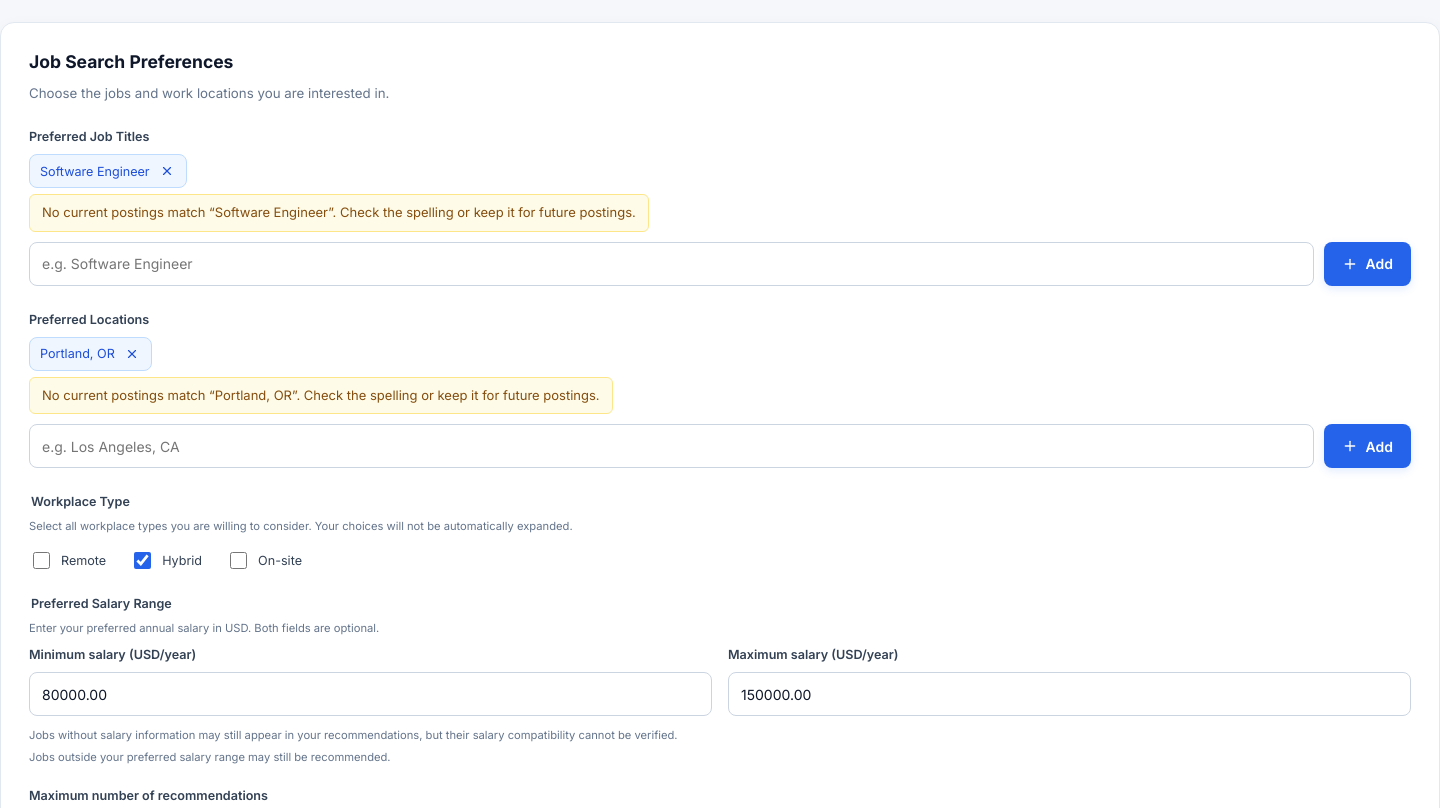
Scenario: SearchPreferencesForm (JH-021) › does not save unfinished text entries
Expected: the text "Software Engineer" is shown, top-left (29, 154), bottom-right (187, 188)
Type "Austin, TX" into the field labelled "Preferred Locations" at (671, 446), box top-left (29, 424), bottom-right (1314, 468)
(page scrolled)
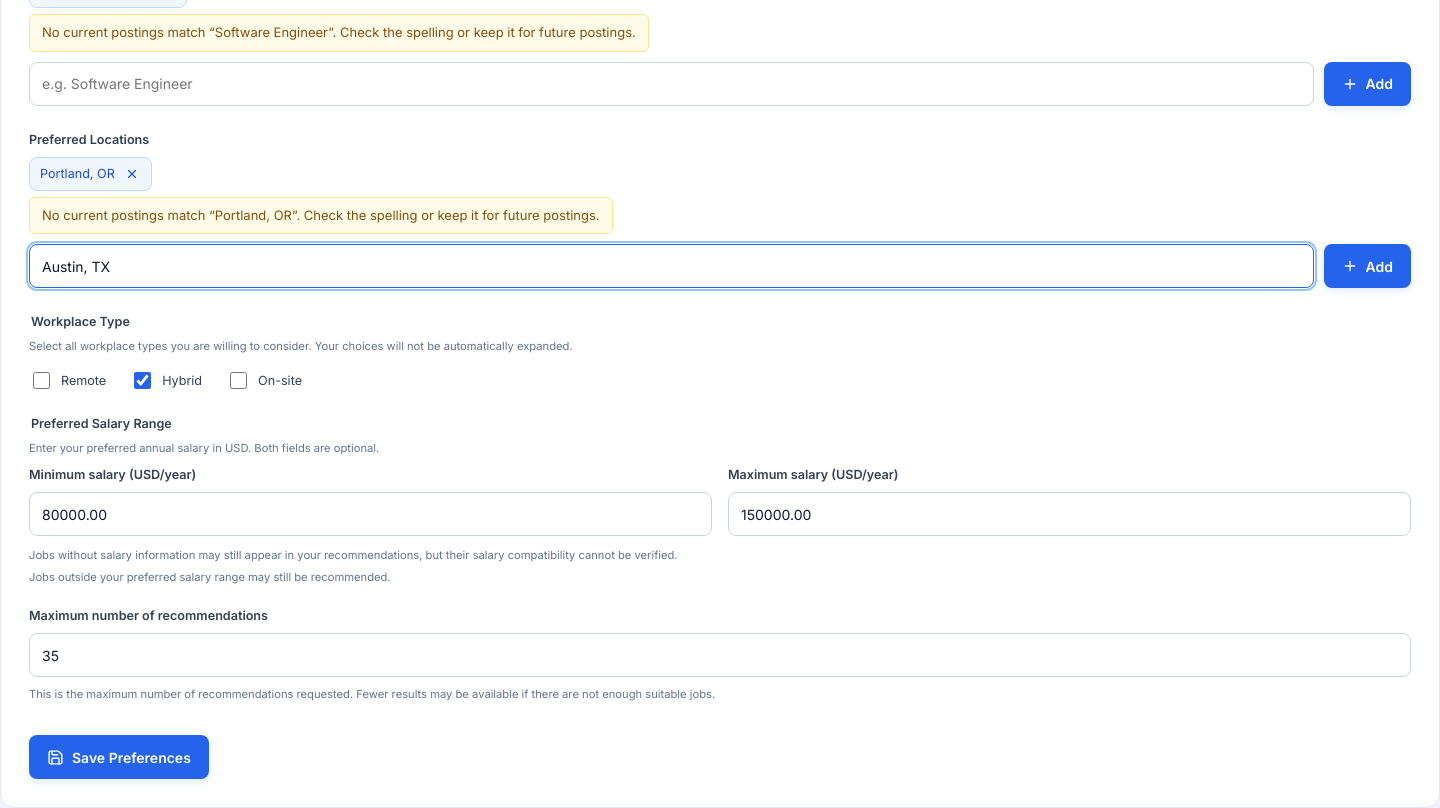
Click the button "Save Preferences" at (119, 757), box top-left (29, 735), bottom-right (209, 779)
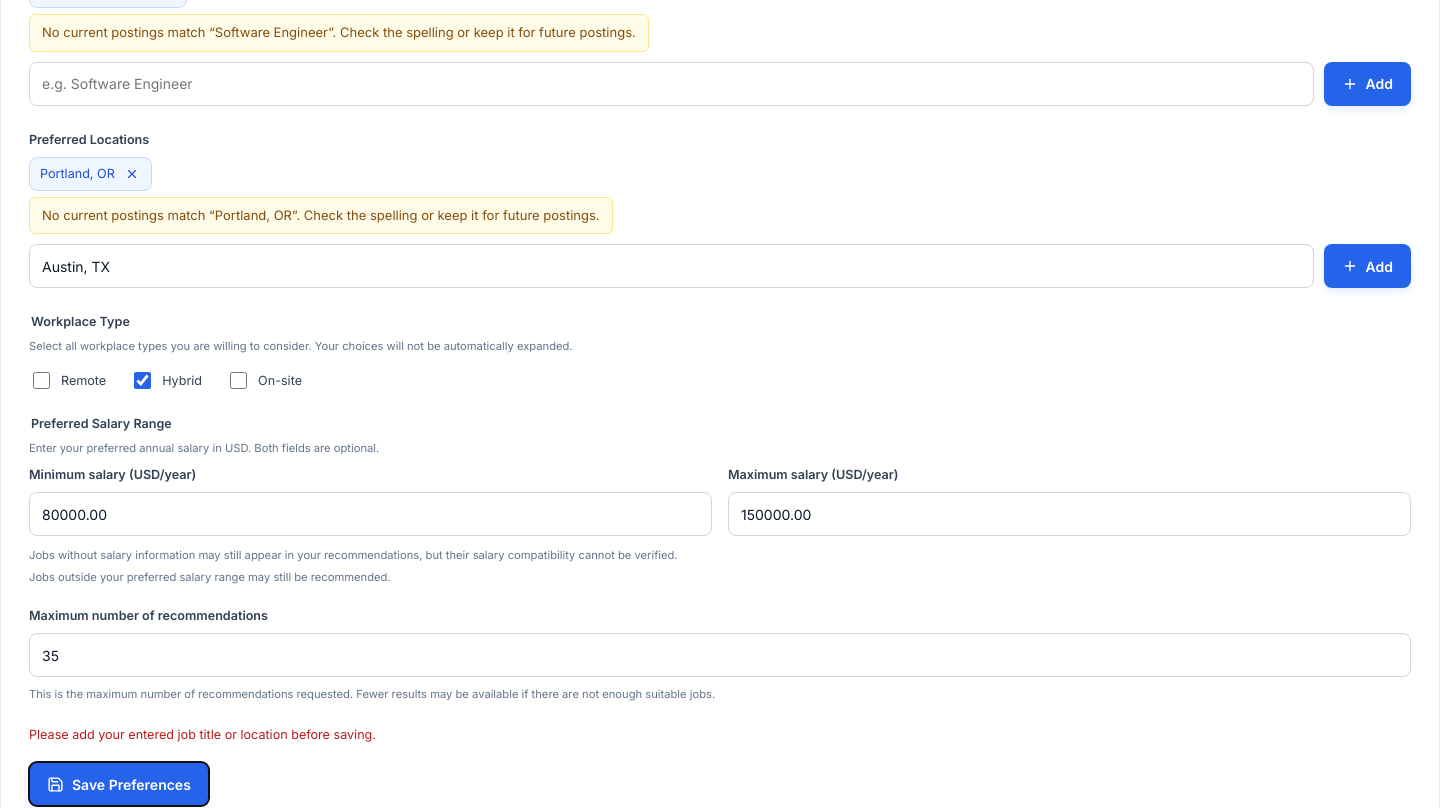
Now the message "Please add your entered job title or location before saving." is shown, box top-left (29, 727), bottom-right (376, 742)
